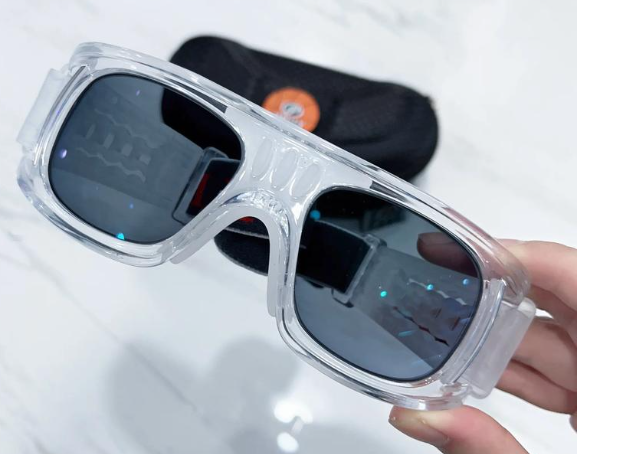glass: (12, 23, 550, 407)
